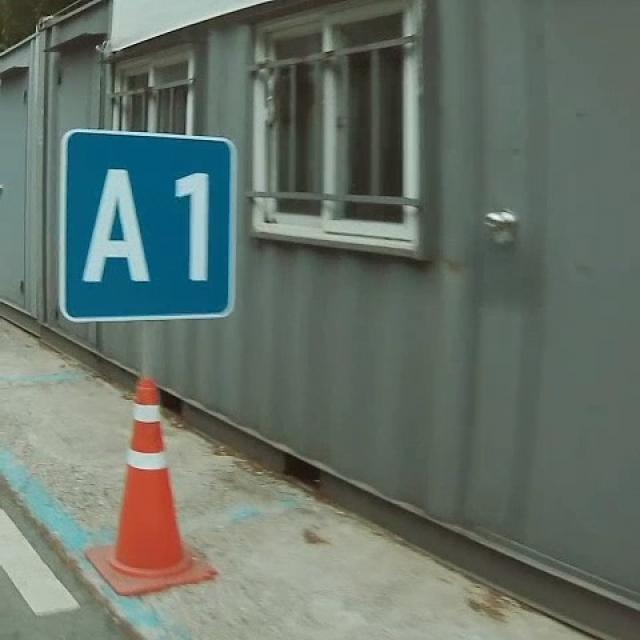a1: (58, 123, 246, 326)
